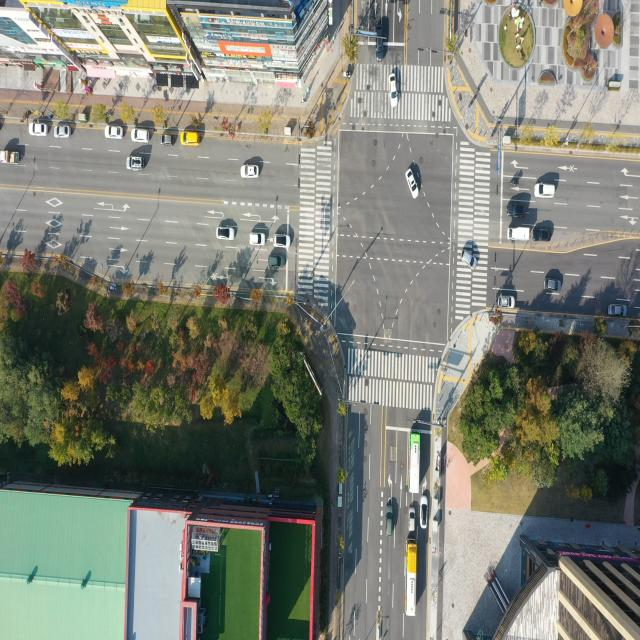car: (407, 168, 421, 200), (374, 22, 384, 60), (507, 200, 528, 218), (531, 225, 552, 243), (180, 131, 200, 147), (459, 250, 476, 268), (535, 182, 555, 197), (132, 129, 152, 144), (386, 501, 394, 537), (389, 76, 398, 108), (242, 165, 260, 180), (106, 126, 124, 141), (217, 228, 236, 242), (30, 124, 48, 138), (496, 294, 514, 308), (421, 494, 428, 529), (249, 233, 266, 247), (56, 126, 73, 140), (610, 305, 628, 318), (546, 278, 562, 292), (126, 157, 142, 170), (161, 134, 177, 147), (275, 235, 290, 248), (410, 508, 417, 533), (270, 255, 283, 268)
large_bus: (405, 535, 416, 618), (408, 430, 421, 493)
small_truck: (0, 149, 21, 165), (508, 226, 529, 241)
